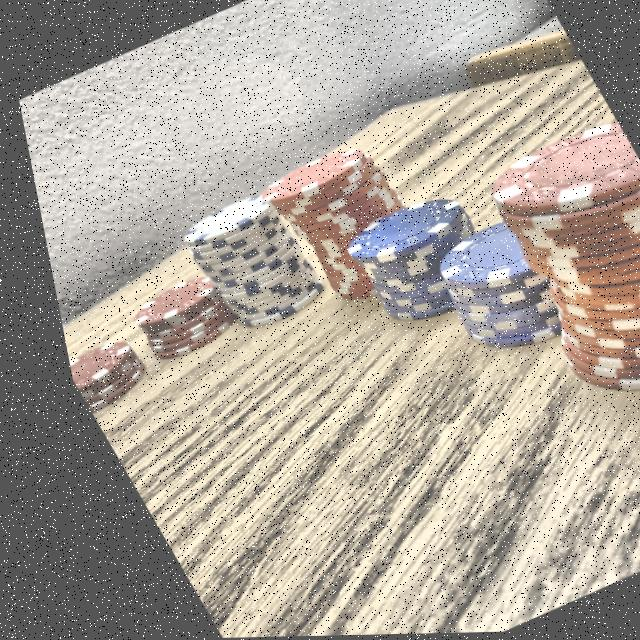Chip: (442, 107, 640, 441), (239, 122, 448, 329), (150, 173, 338, 352), (398, 198, 584, 376), (324, 177, 507, 340), (94, 260, 247, 380), (49, 320, 151, 420)
